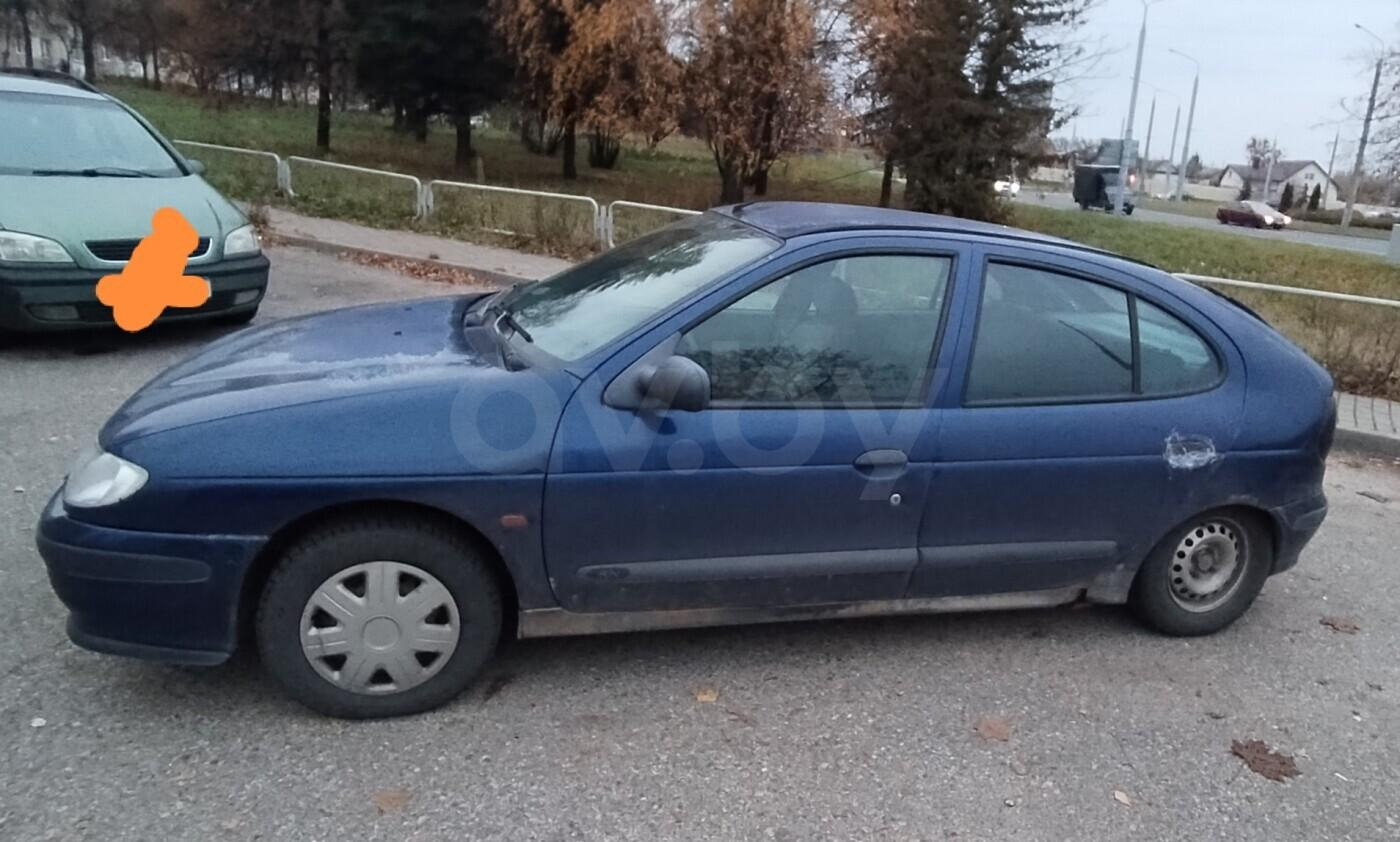Megane_1995-1999: (42, 191, 1324, 688)
